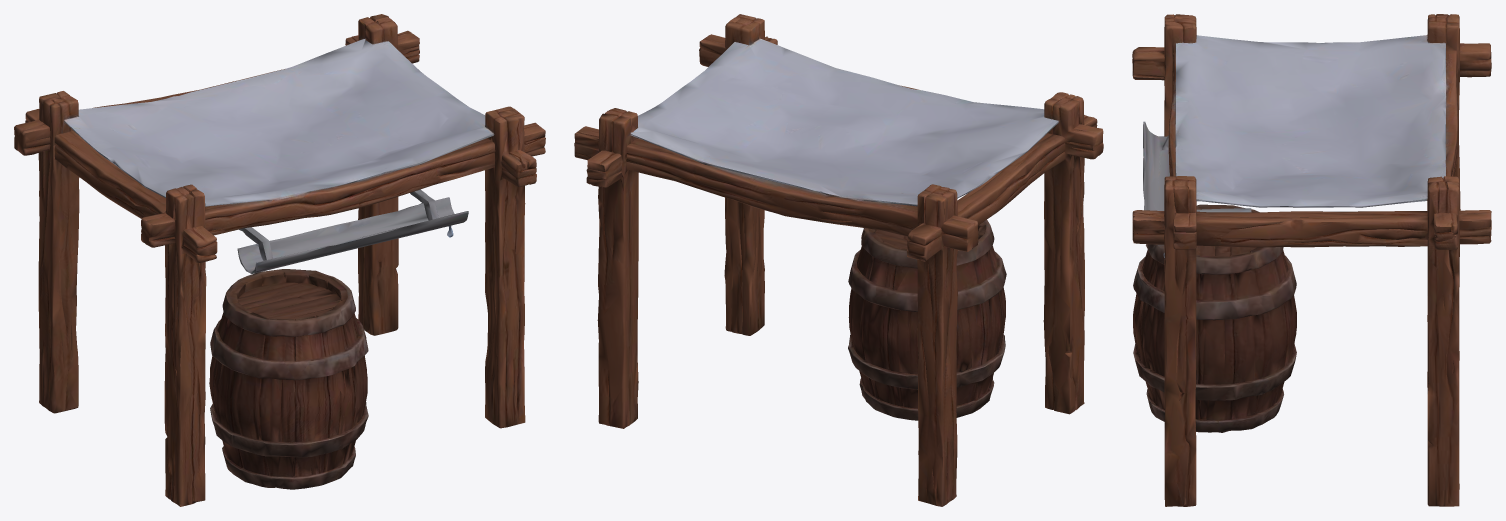
File: rain_collector_plenka_i_zhelob_idle.glb
3 renders of one model, left to right at view 1: azimuth 30°, elevation 25°; view 2: azimuth 150°, elevation 25°; view 3: azimuth 270°, elevation 25°, orthographic. The views are drawn at different scales.
Visible parts, largest first — view 1: tripo_node_b1385610-174d-4a11-8275-f3c705b08787; view 2: tripo_node_b1385610-174d-4a11-8275-f3c705b08787; view 3: tripo_node_b1385610-174d-4a11-8275-f3c705b08787.
Part boxes in pixels (<box>): tripo_node_b1385610-174d-4a11-8275-f3c705b08787: <box>14,14,545,506</box>; tripo_node_b1385610-174d-4a11-8275-f3c705b08787: <box>574,14,1103,506</box>; tripo_node_b1385610-174d-4a11-8275-f3c705b08787: <box>1132,14,1491,506</box>.
Bounding box in the file's own units: 1.1 × 0.8307 × 0.8321.
1 material, 1 textured.
